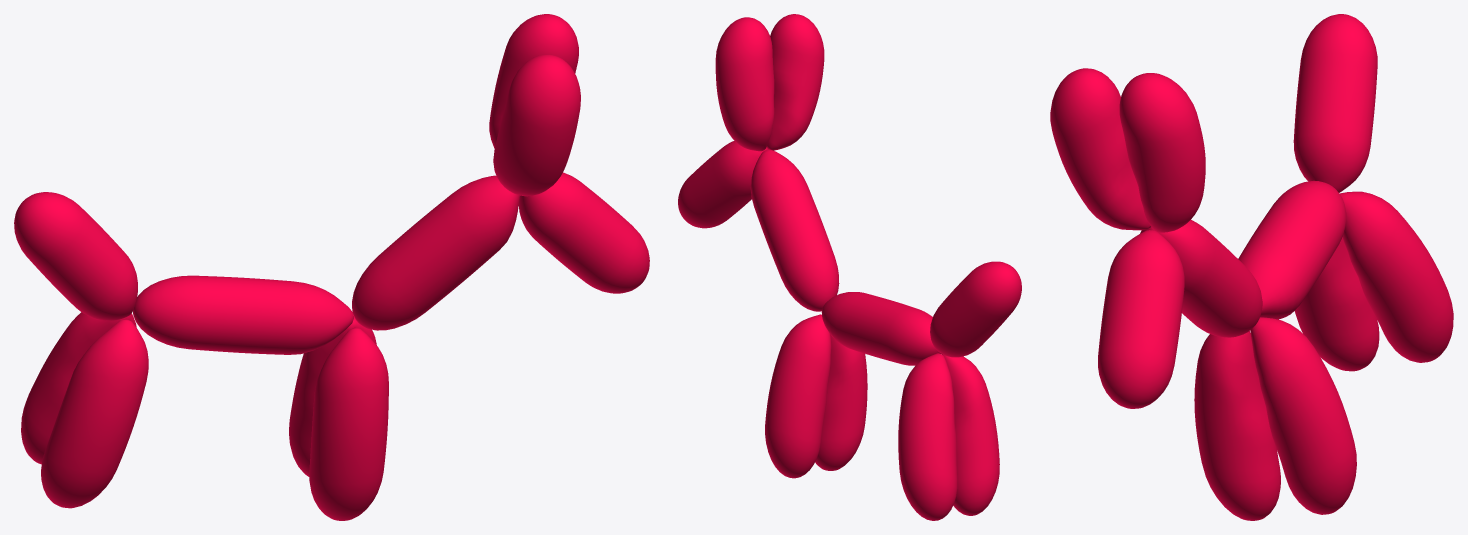
The model's file is BalloonDog.fbx.
The picture shows the model from 3 angles, left to right: view 1: azimuth 30°, elevation 25°; view 2: azimuth 150°, elevation 25°; view 3: azimuth 270°, elevation 25°; orthographic projection. The views are drawn at different scales.
Visible parts, largest first — view 1: Sphere; view 2: Sphere; view 3: Sphere.
Boxes of the visible parts, bbox=[...] form: Sphere: bbox=[14, 14, 649, 520]; Sphere: bbox=[678, 14, 1021, 520]; Sphere: bbox=[1050, 14, 1453, 520].
Bounding box in the file's own units: 3771 × 3411 × 2384.
